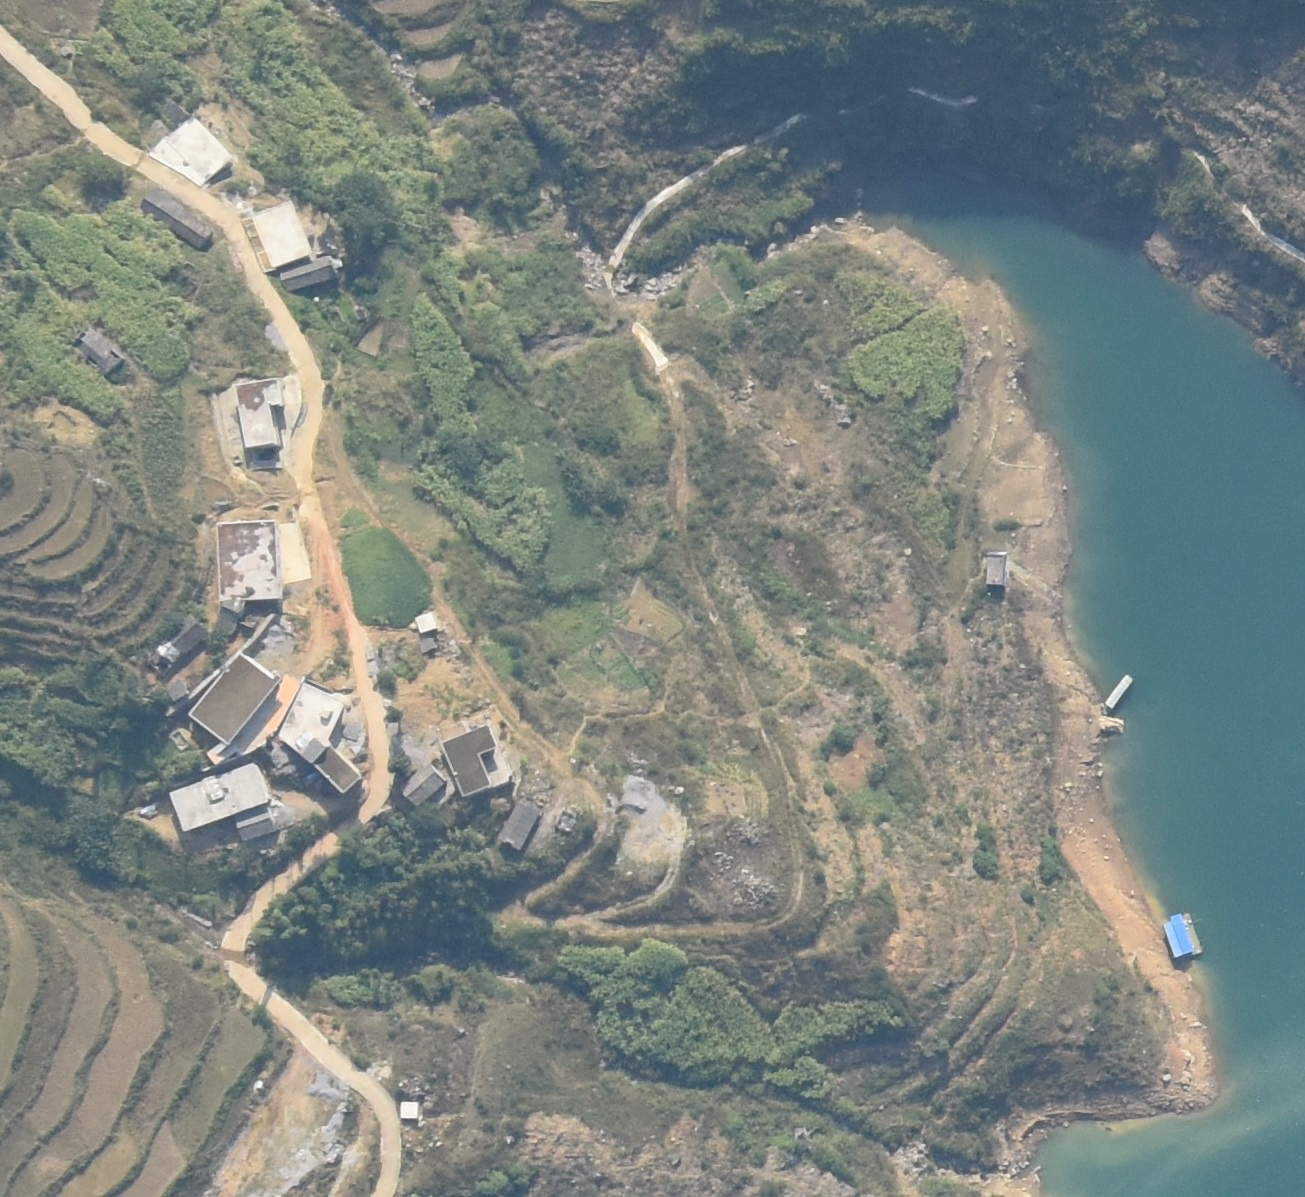building: (188, 654, 281, 747), (167, 764, 271, 831), (216, 522, 281, 613), (147, 119, 230, 184), (279, 681, 344, 758), (247, 201, 314, 271), (440, 723, 501, 798), (139, 188, 211, 250), (231, 377, 285, 448), (151, 617, 205, 671), (76, 327, 128, 377), (396, 762, 449, 806), (497, 797, 539, 853), (313, 748, 361, 793), (279, 257, 339, 289), (232, 808, 274, 840), (986, 552, 1006, 587), (415, 612, 437, 632), (166, 679, 188, 699), (399, 1100, 419, 1120), (418, 638, 437, 652)
prefabricated-house: (1164, 913, 1202, 959)
ship: (1102, 675, 1131, 717)
